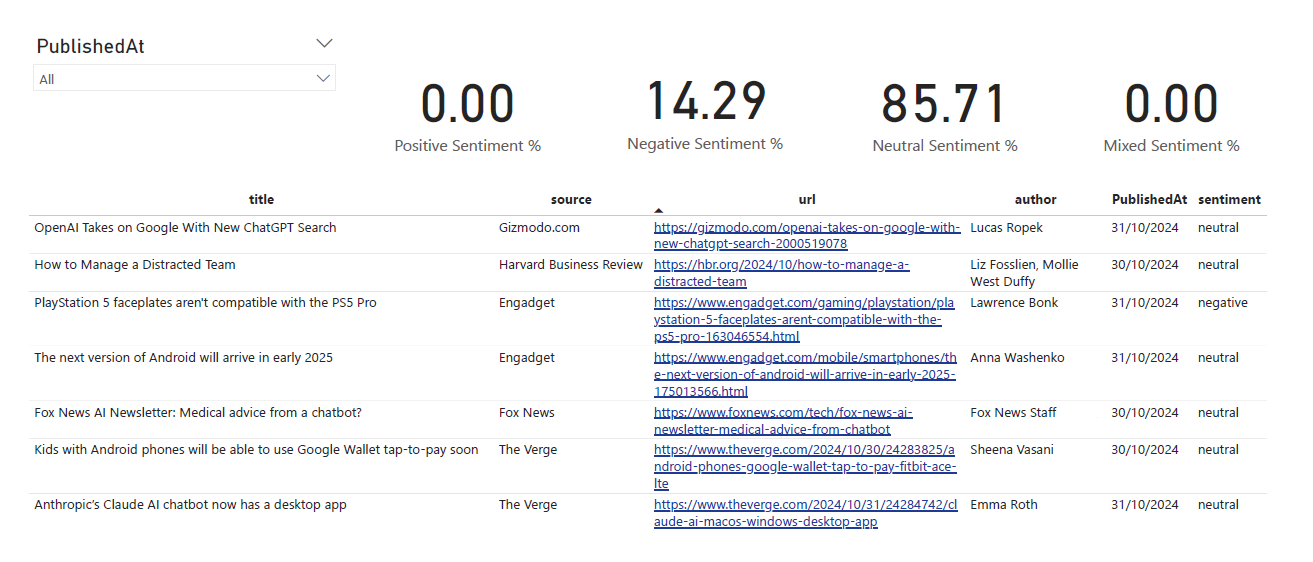

The page's visual inventory and layout, read from the dashboard file:
{"tool":"powerbi","page":{"name":"Page 2","canvas":[1280,720],"ordinal":1},"visuals":[{"type":"tableEx","fields":{"Values":["table_sentimental_analysis.title","table_sentimental_analysis.source","table_sentimental_analysis.url","table_sentimental_analysis.author","table_sentimental_analysis.PublishedAt","table_sentimental_analysis.sentiment"]},"box":[9.5,156.6,1257.2,468.6],"z":0},{"type":"tableEx","box":[1076.8,378.8,12.1,12.1],"z":1000},{"type":"slicer","fields":{"Values":["table_sentimental_analysis.PublishedAt"]},"box":[9.5,1.4,324.1,155.3],"z":2000},{"type":"card","fields":{"Values":["table_sentimental_analysis.Negative Sentiment %"]},"box":[578,1.4,232.3,149.9],"z":3000},{"type":"card","fields":{"Values":["table_sentimental_analysis.Neutral Sentiment %"]},"box":[810.2,1.4,249.8,155.3],"z":4000},{"type":"card","fields":{"Values":["table_sentimental_analysis.Positive Sentiment %"]},"box":[333.6,1.4,244.4,155.3],"z":5000},{"type":"card","fields":{"Values":["table_sentimental_analysis.Mixed Sentiment %"]},"box":[1060.1,1.4,206.6,155.3],"z":6000}]}

Visuals, with their boxes on the page's 1280x720 design canvas (x1, y1, x2, y2). These are canvas units, not pixel positions in the 1313x562 screenshot, which may show the page scaled, cropped or inside an application window:
tableEx - table_sentimental_analysis.title x table_sentimental_analysis.source: pyautogui.locateOnScreen(10, 157, 1267, 625)
tableEx: pyautogui.locateOnScreen(1077, 379, 1089, 391)
slicer - table_sentimental_analysis.PublishedAt: pyautogui.locateOnScreen(10, 1, 334, 157)
card - table_sentimental_analysis.Negative Sentiment %: pyautogui.locateOnScreen(578, 1, 810, 151)
card - table_sentimental_analysis.Neutral Sentiment %: pyautogui.locateOnScreen(810, 1, 1060, 157)
card - table_sentimental_analysis.Positive Sentiment %: pyautogui.locateOnScreen(334, 1, 578, 157)
card - table_sentimental_analysis.Mixed Sentiment %: pyautogui.locateOnScreen(1060, 1, 1267, 157)
